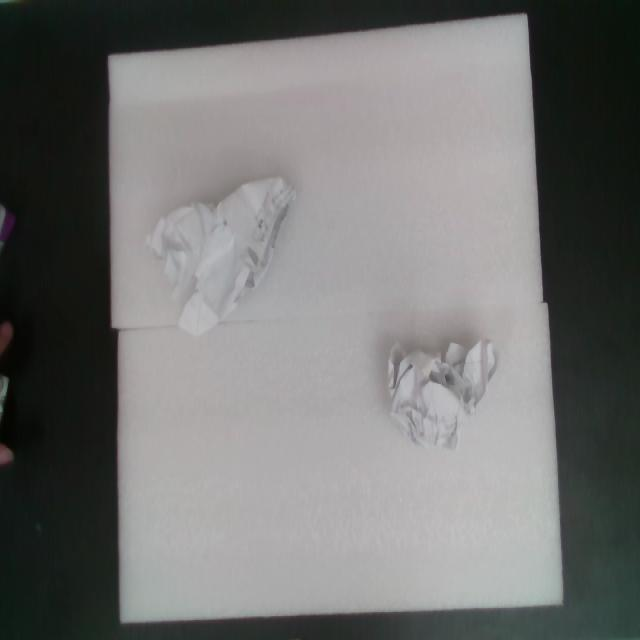paper: (138, 149, 323, 337), (360, 333, 514, 466)
